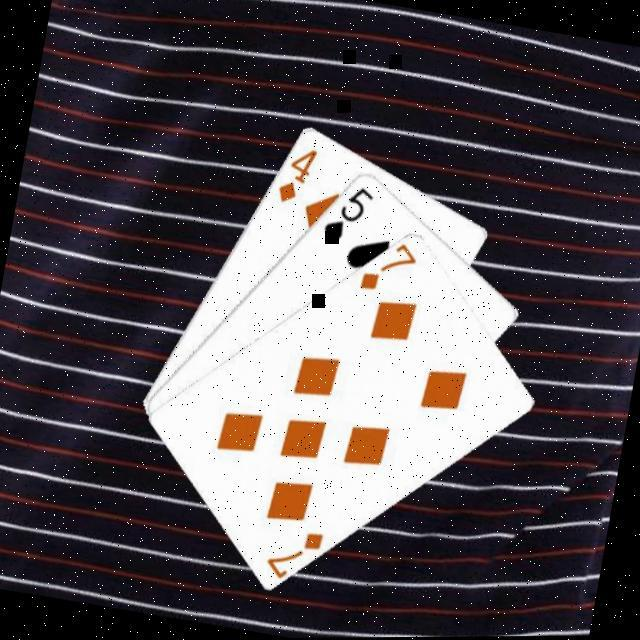4D: (272, 139, 320, 208)
5S: (317, 176, 377, 248)
7D: (354, 234, 421, 298), (259, 520, 326, 584)
